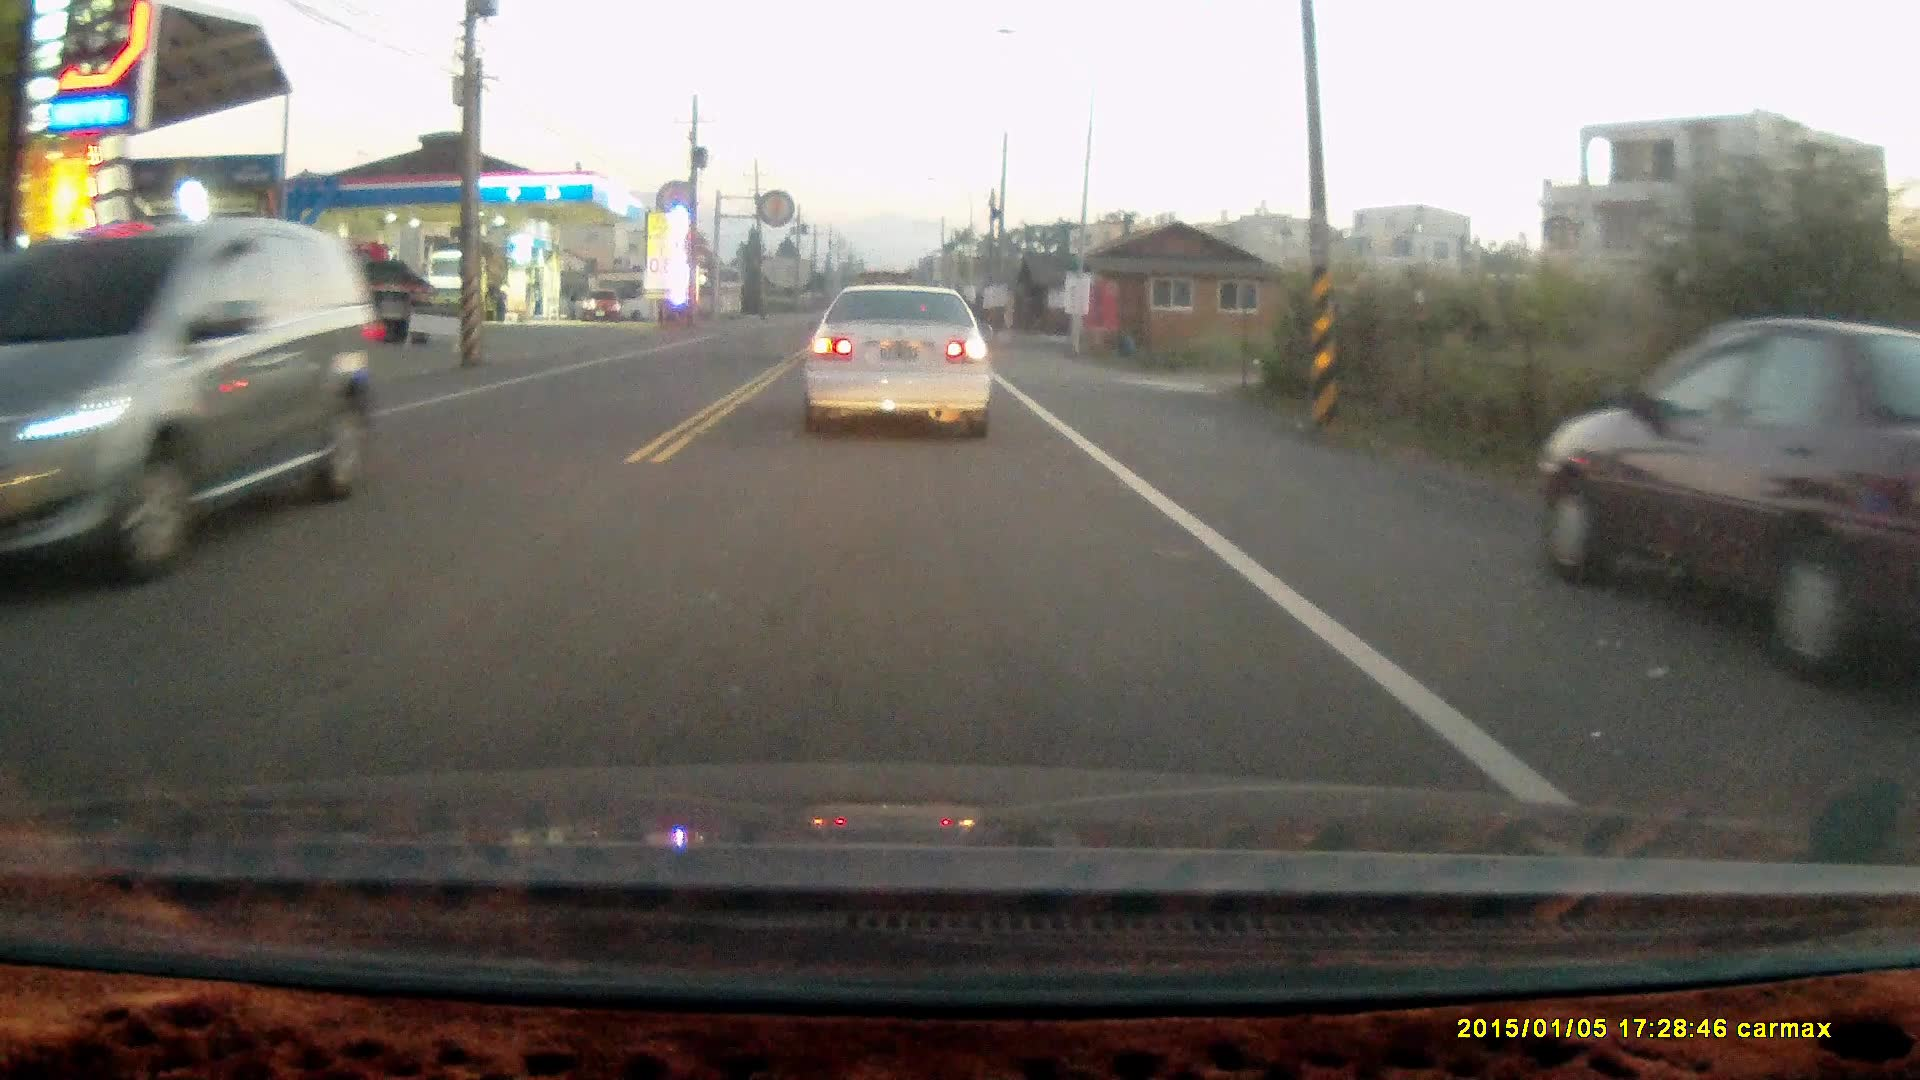pedestrian: (492, 278, 512, 320)
vehicle: (1537, 315, 1919, 720), (1, 219, 393, 593), (796, 280, 995, 440), (583, 288, 623, 323)
